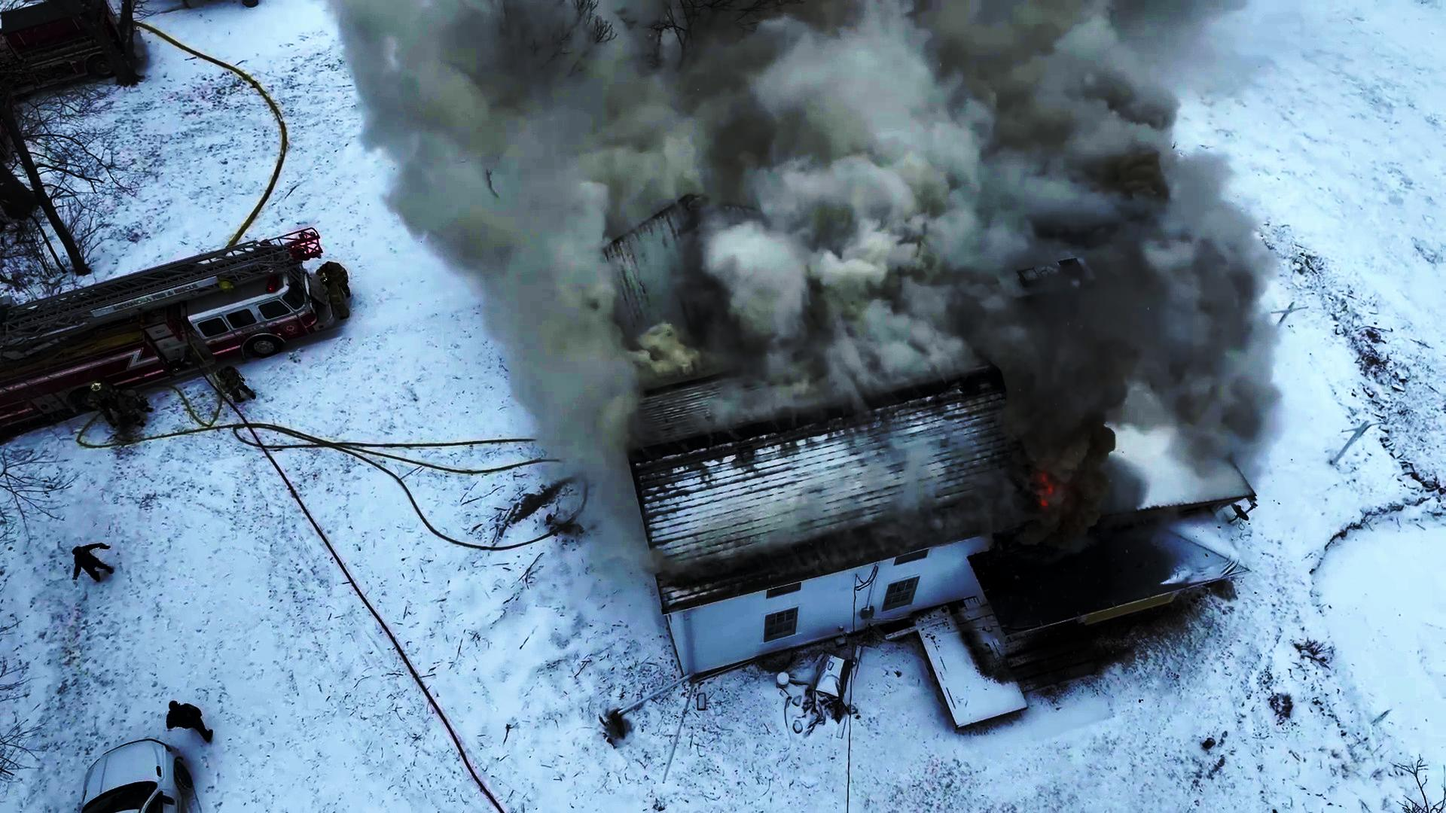smoke: (729, 102, 1151, 369)
